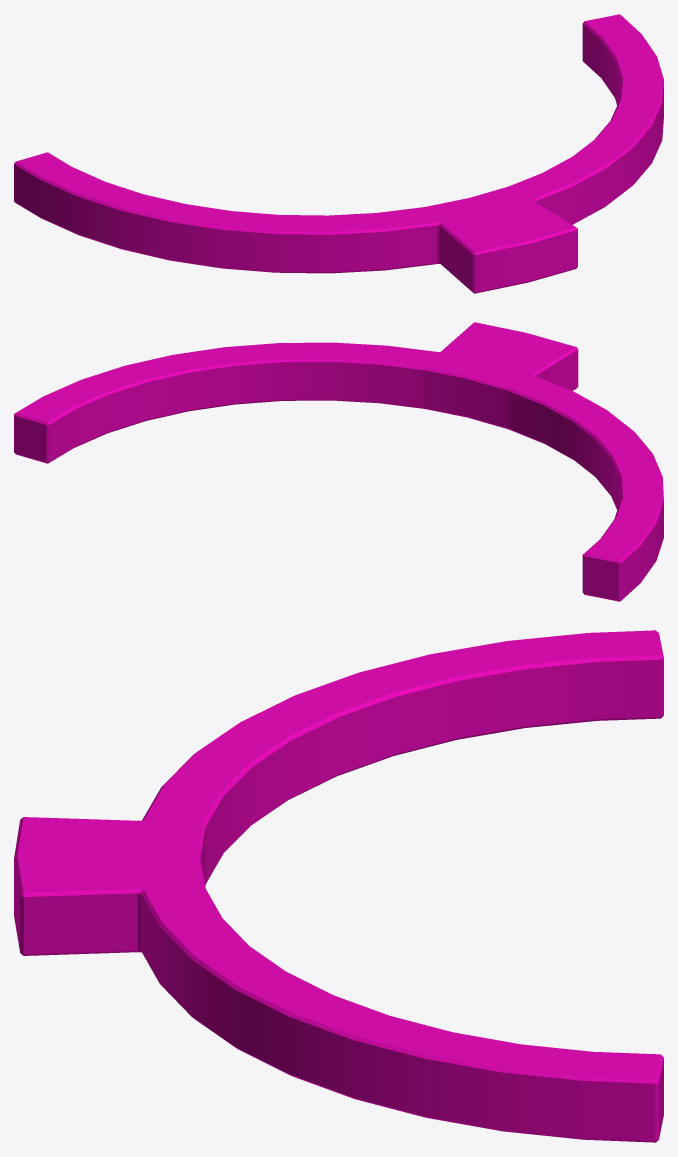
File: Cylindre_Lign_Board_A.fbx
The picture shows the model from 3 angles, top to bottom: view 1: azimuth 30°, elevation 25°; view 2: azimuth 150°, elevation 25°; view 3: azimuth 270°, elevation 25°; orthographic projection. The views are drawn at different scales.
Visible parts, largest first — view 1: Cylindre_Lign_Board_A; view 2: Cylindre_Lign_Board_A; view 3: Cylindre_Lign_Board_A.
Part boxes in pixels (x1,y1,x2,y2): Cylindre_Lign_Board_A: (14, 14, 663, 293); Cylindre_Lign_Board_A: (14, 322, 663, 601); Cylindre_Lign_Board_A: (14, 630, 663, 1142).
Bounding box in the file's own units: 83.87 × 5.48 × 51.
